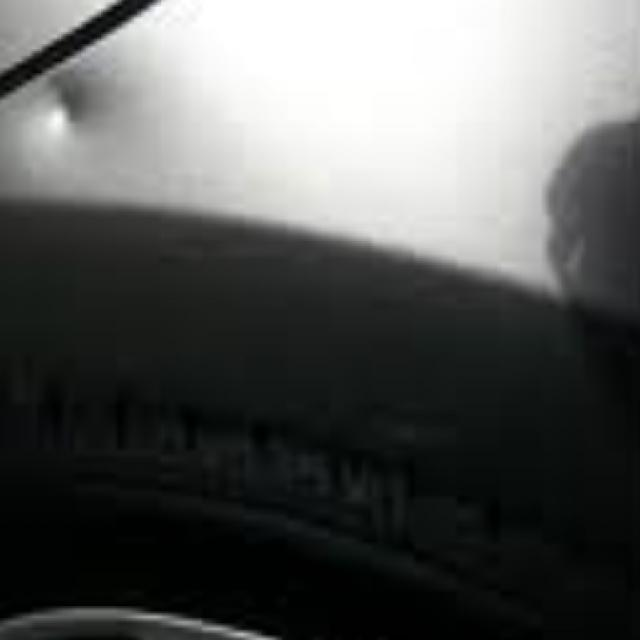dents: (10, 81, 163, 166)
